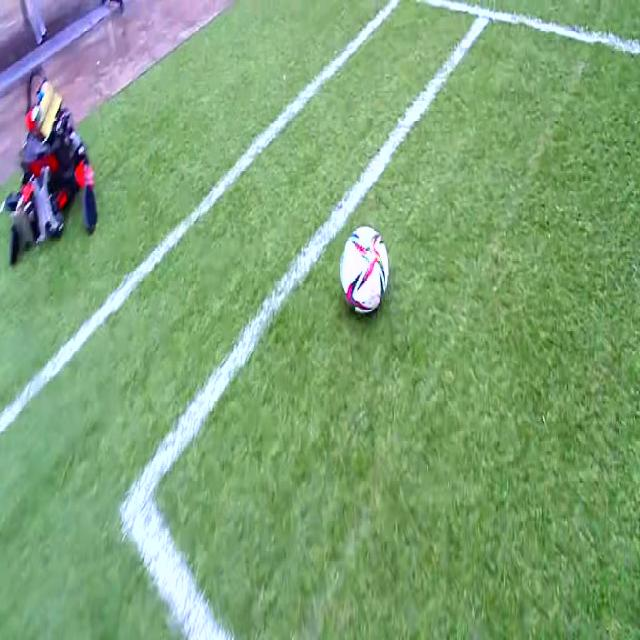ball: (341, 226, 388, 311)
